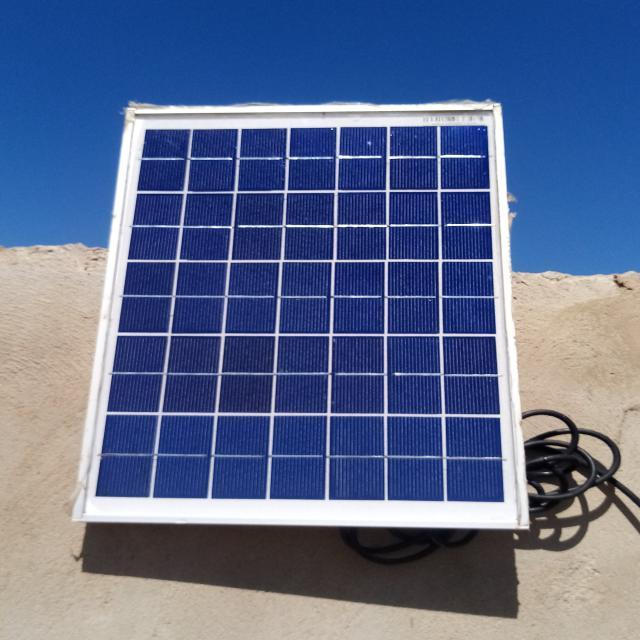no faulty: (72, 105, 531, 526)
